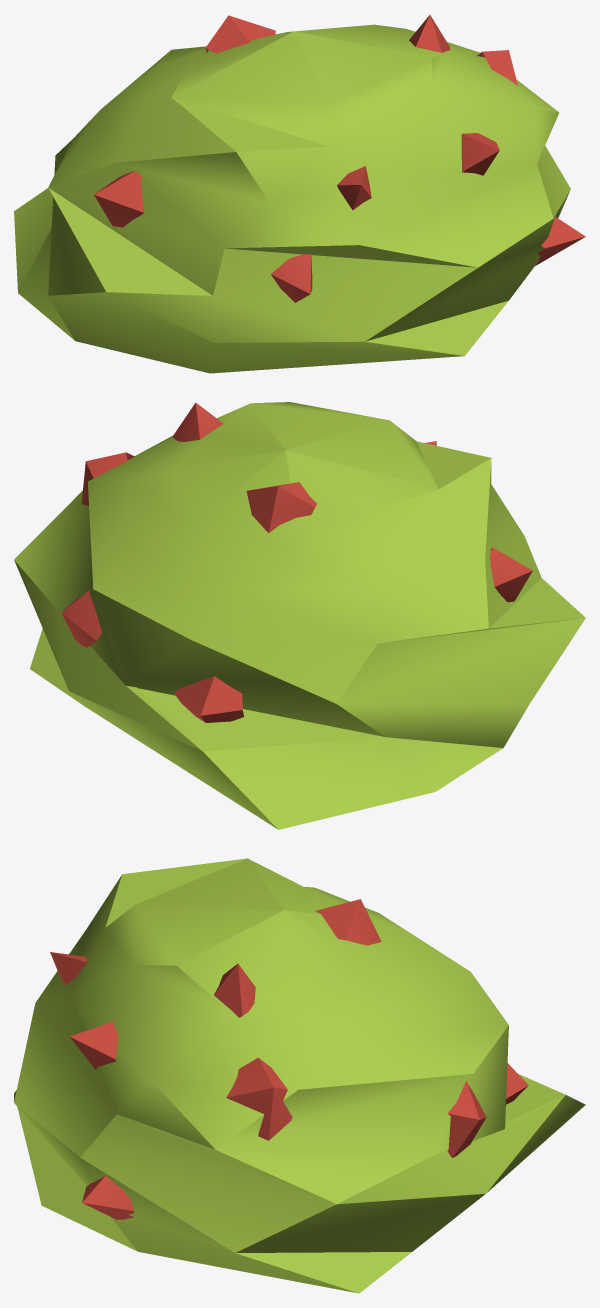
3 renders of one model, top to bottom at view 1: azimuth 30°, elevation 25°; view 2: azimuth 150°, elevation 25°; view 3: azimuth 270°, elevation 25°, orthographic. The views are drawn at different scales.
Visible parts, largest first — view 1: default4_Material_0; view 2: default4_Material_0; view 3: default4_Material_0.
Boxes of the visible parts, <box> form: default4_Material_0: <box>14,15,585,373</box>; default4_Material_0: <box>14,402,585,829</box>; default4_Material_0: <box>14,858,585,1293</box>.
Bounding box in the file's own units: 0.057 × 0.0281 × 0.0535.
Materials: 1 (1 with a texture image).
